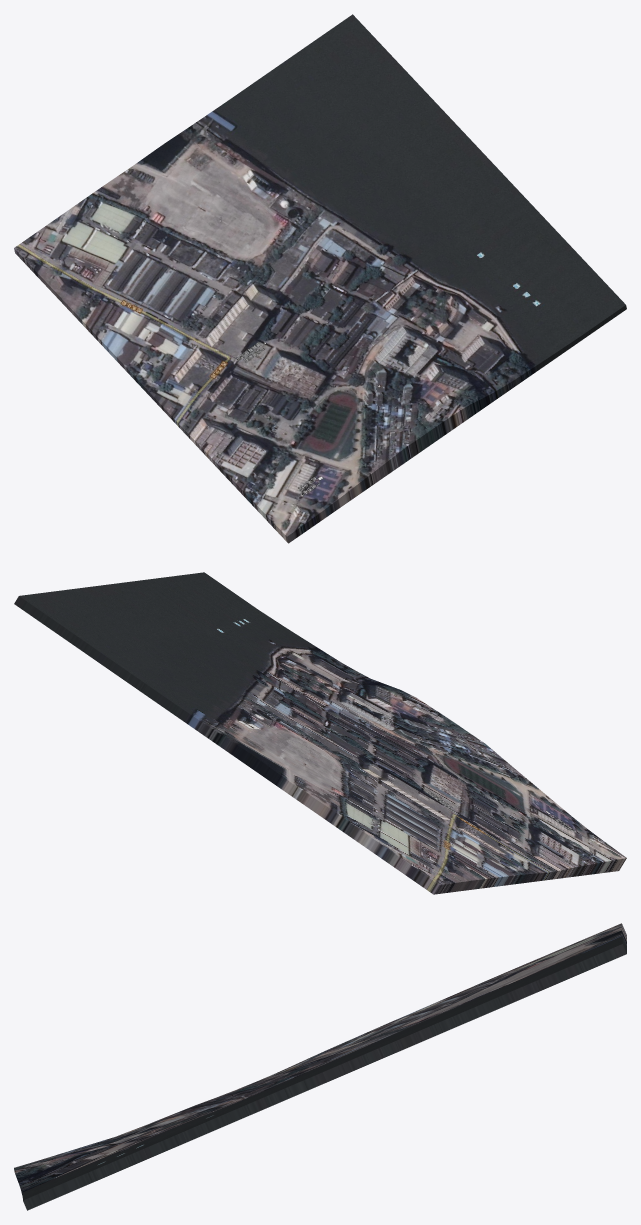
3 views of the same model, one above another, from view 1: azimuth 30°, elevation 25°; view 2: azimuth 150°, elevation 25°; view 3: azimuth 270°, elevation 25° (orthographic). The views are drawn at different scales.
Visible parts, largest first — view 1: 0_0_2; view 2: 0_0_2; view 3: 0_0_2.
Boxes of the visible parts, <box> form: 0_0_2: <box>14,14,626,543</box>; 0_0_2: <box>14,572,626,894</box>; 0_0_2: <box>14,923,626,1210</box>.
Size of the model in its own units: 596 by 436 by 554.
1 material, 1 textured.
